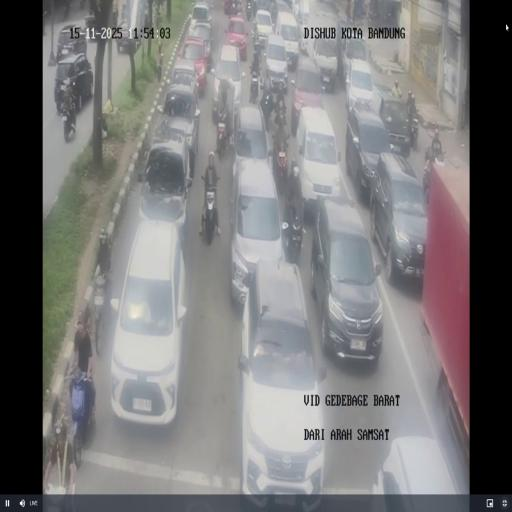3: (420, 166, 470, 481), (116, 1, 150, 54)
car: (236, 262, 325, 498), (109, 215, 188, 425), (311, 198, 383, 362), (230, 156, 286, 310), (371, 154, 428, 280), (138, 124, 191, 234), (294, 104, 342, 218), (232, 100, 271, 181), (372, 88, 414, 156), (212, 44, 244, 129), (54, 52, 94, 112), (341, 35, 370, 93), (311, 32, 339, 89), (263, 32, 290, 91), (168, 58, 201, 104), (186, 21, 212, 69), (224, 14, 249, 60), (56, 24, 86, 60), (273, 0, 293, 27), (251, 0, 272, 22), (293, 0, 310, 27), (83, 11, 97, 36)
truck: (68, 368, 96, 465), (90, 260, 112, 354), (283, 203, 304, 263), (200, 186, 218, 244), (272, 132, 290, 188), (214, 114, 230, 160), (427, 132, 445, 165), (260, 88, 274, 130), (63, 104, 77, 142), (248, 64, 261, 103), (422, 160, 432, 202), (274, 95, 287, 125), (251, 37, 262, 67), (410, 117, 419, 149), (228, 120, 236, 152), (391, 79, 402, 99), (364, 1, 372, 23), (62, 0, 70, 18), (258, 72, 265, 91), (41, 10, 46, 36), (236, 0, 244, 15), (245, 0, 251, 18), (79, 0, 85, 9)
